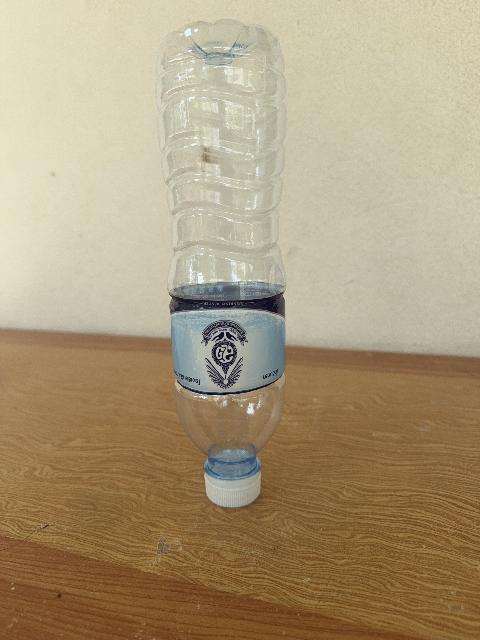bottle: (157, 20, 285, 506)
